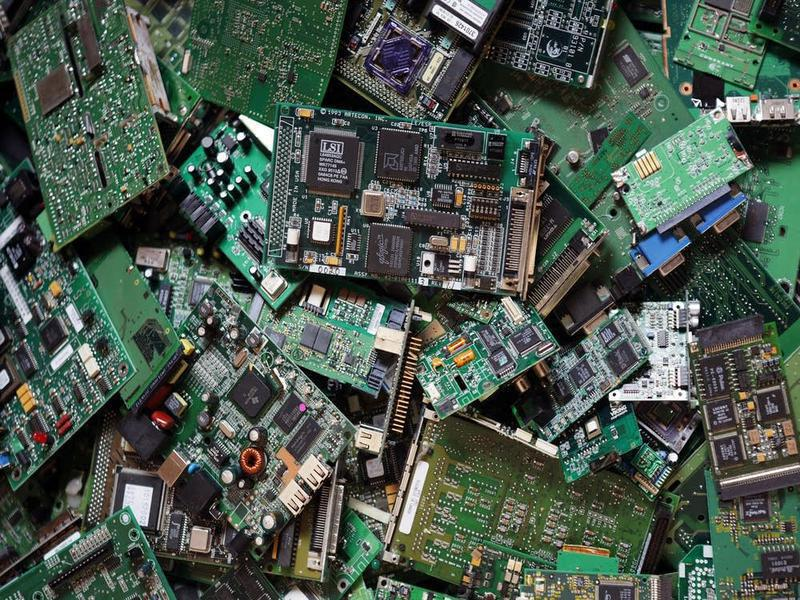circuit_board: (107, 281, 365, 564), (249, 92, 555, 306), (377, 393, 683, 596), (10, 1, 179, 253), (686, 311, 800, 505), (182, 2, 347, 128), (338, 1, 504, 126), (608, 108, 761, 237), (412, 301, 569, 422), (513, 306, 650, 441), (1, 505, 182, 600), (484, 1, 617, 100)
